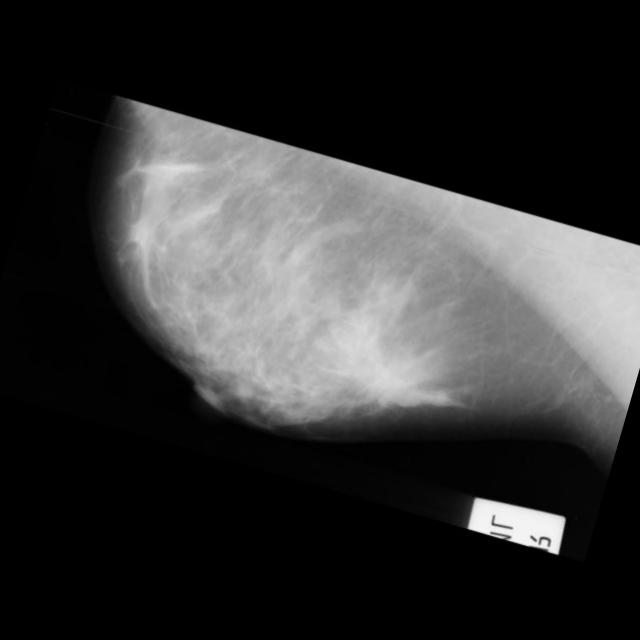SPIC: (298, 299, 442, 443)
